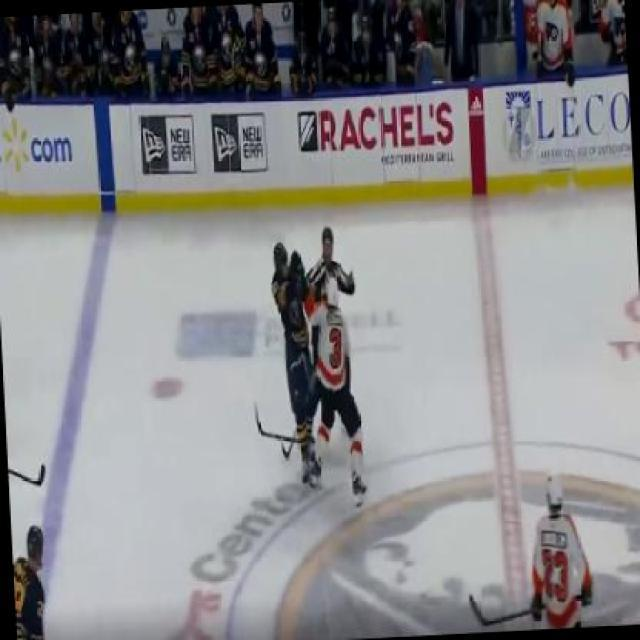fight: (267, 224, 367, 504)
non-fight: (522, 468, 596, 628)
